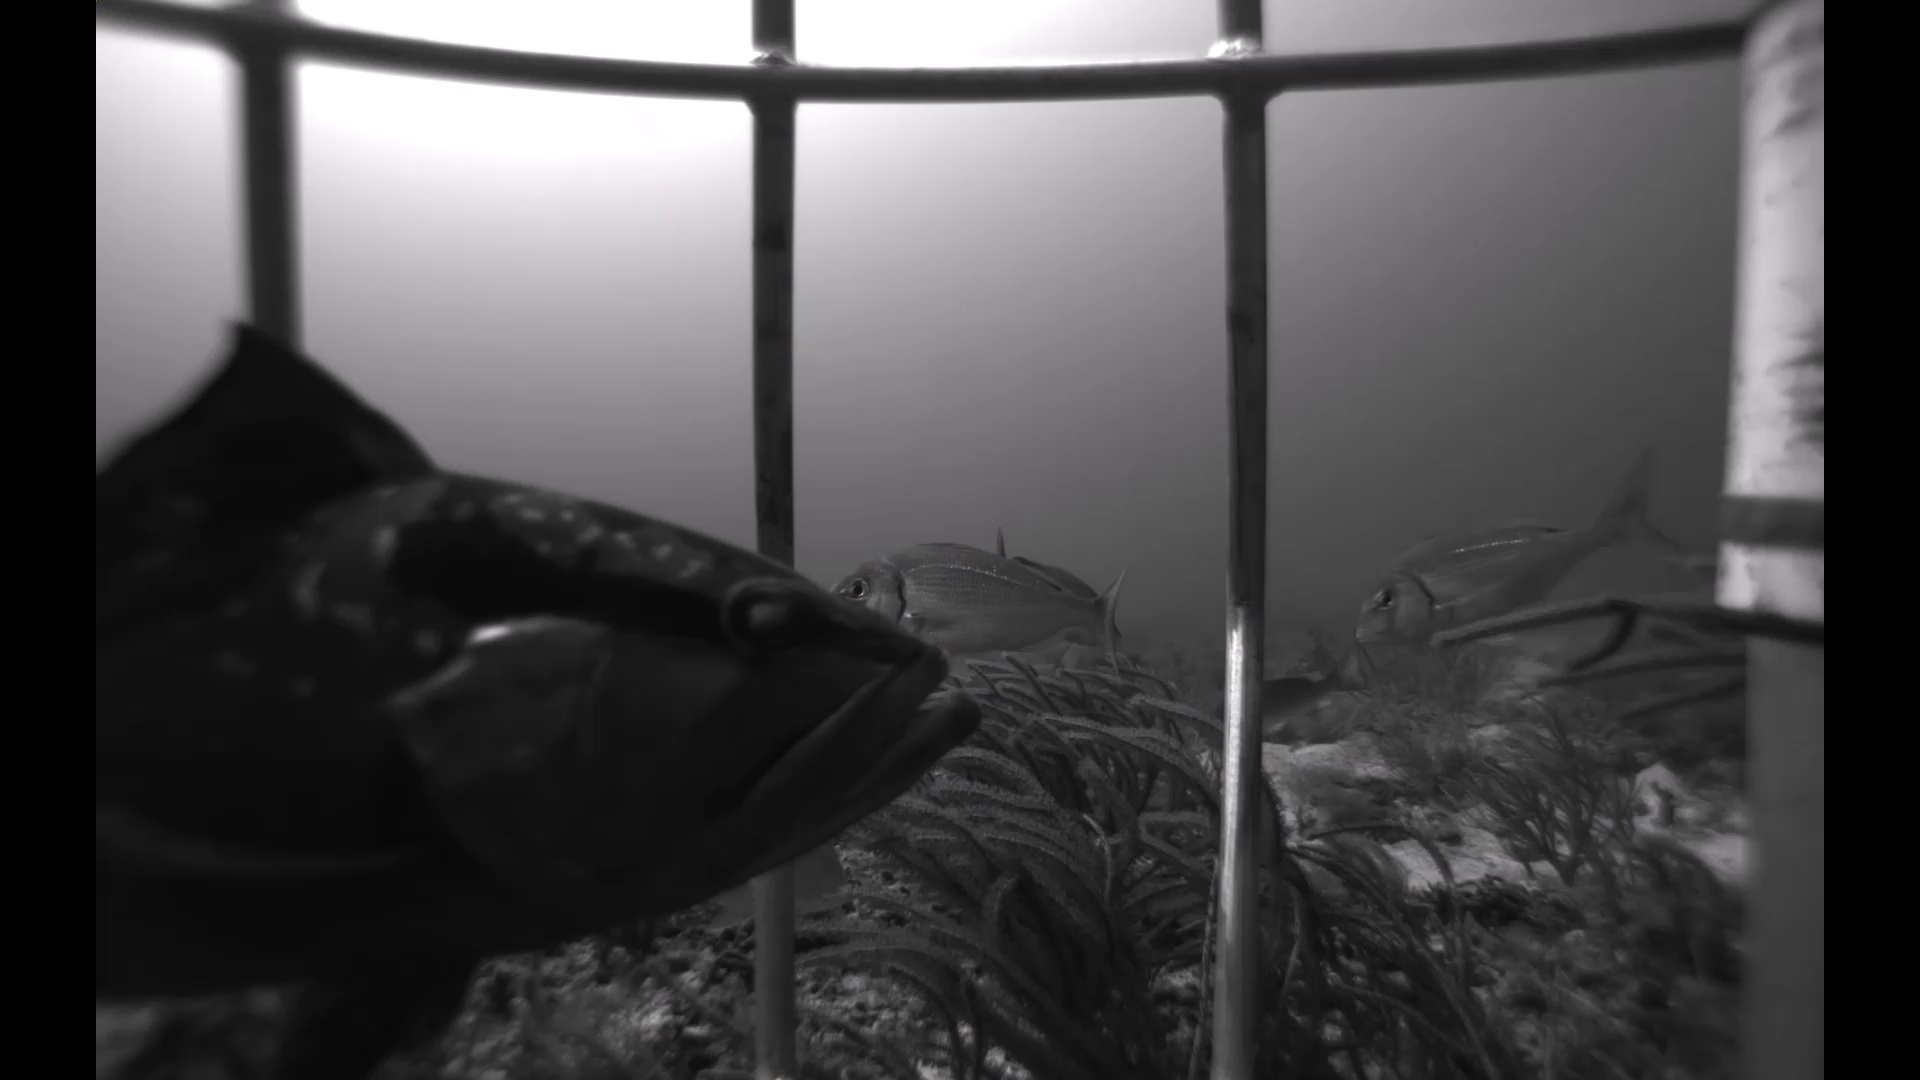CALAMUSNODOSUS-170210608: (696, 832, 872, 938)
EPINEPHELUSMORIO-170021211: (102, 303, 996, 1065)
LUTJANUSGRISEUS-170151109: (980, 512, 1130, 650), (1199, 644, 1373, 746)
PAGRUSPAGRUS-170212302: (1338, 440, 1712, 678), (824, 530, 1141, 671)
